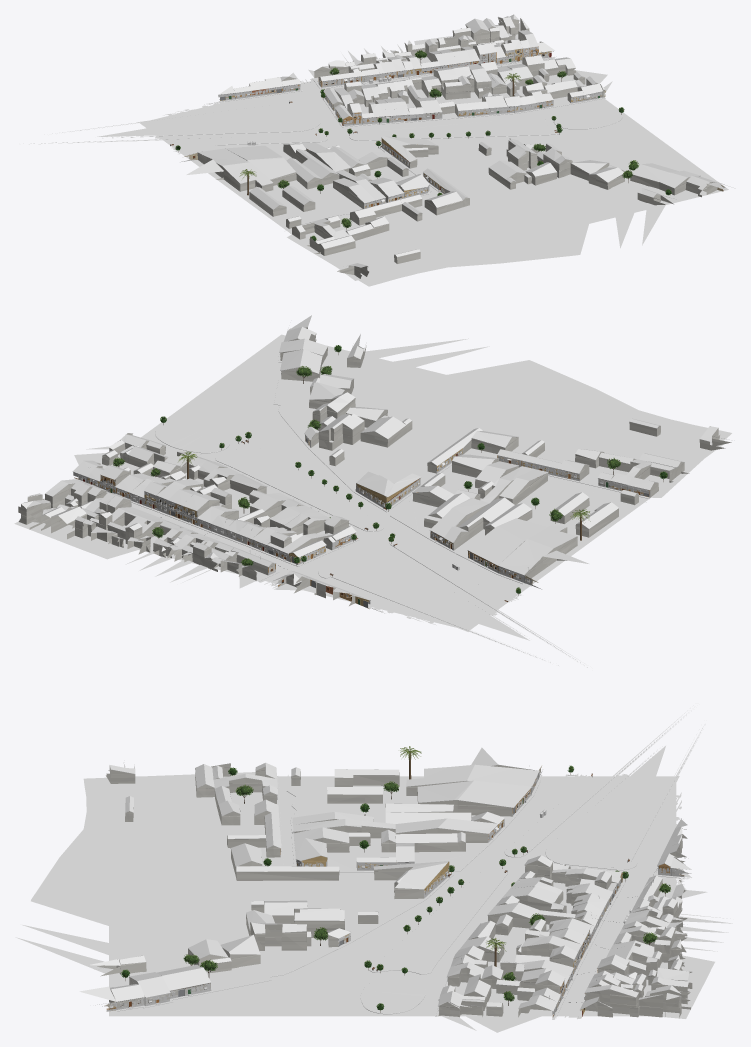
Rendered from zona_2_-4.glb.
The picture shows the model from 3 angles, top to bottom: view 1: azimuth 30°, elevation 25°; view 2: azimuth 150°, elevation 25°; view 3: azimuth 270°, elevation 25°; orthographic projection. The views are drawn at different scales.
Visible parts, largest first — view 1: z_calle_2_-4, z_tejados_2_-4, z_casas_2_-4, z_fachadas_2_-4, z_suelo_2_-4, z_arboles_2_-4, z_detalles_pueblo_2_-4; view 2: z_calle_2_-4, z_tejados_2_-4, z_casas_2_-4, z_fachadas_2_-4, z_suelo_2_-4, z_arboles_2_-4; view 3: z_calle_2_-4, z_tejados_2_-4, z_casas_2_-4, z_suelo_2_-4, z_arboles_2_-4, z_fachadas_2_-4.
Part boxes in pixels (x1=…): z_calle_2_-4: x1=29, y1=34, x2=728, y2=286; z_tejados_2_-4: x1=186, y1=14, x2=725, y2=267; z_casas_2_-4: x1=184, y1=17, x2=724, y2=278; z_fachadas_2_-4: x1=180, y1=47, x2=725, y2=208; z_suelo_2_-4: x1=137, y1=59, x2=611, y2=154; z_arboles_2_-4: x1=175, y1=50, x2=671, y2=241; z_detalles_pueblo_2_-4: x1=226, y1=54, x2=577, y2=125; z_calle_2_-4: x1=14, y1=334, x2=731, y2=667; z_tejados_2_-4: x1=21, y1=315, x2=726, y2=600; z_casas_2_-4: x1=18, y1=327, x2=731, y2=608; z_fachadas_2_-4: x1=73, y1=354, x2=650, y2=607; z_suelo_2_-4: x1=128, y1=434, x2=521, y2=631; z_arboles_2_-4: x1=113, y1=345, x2=667, y2=595; z_calle_2_-4: x1=15, y1=705, x2=732, y2=1032; z_tejados_2_-4: x1=79, y1=747, x2=691, y2=1011; z_casas_2_-4: x1=97, y1=763, x2=692, y2=1018; z_suelo_2_-4: x1=381, y1=773, x2=684, y2=1017; z_arboles_2_-4: x1=121, y1=746, x2=670, y2=1012; z_fachadas_2_-4: x1=102, y1=769, x2=691, y2=1017.
Size of the model in its own units: 274 by 12.21 by 252.
